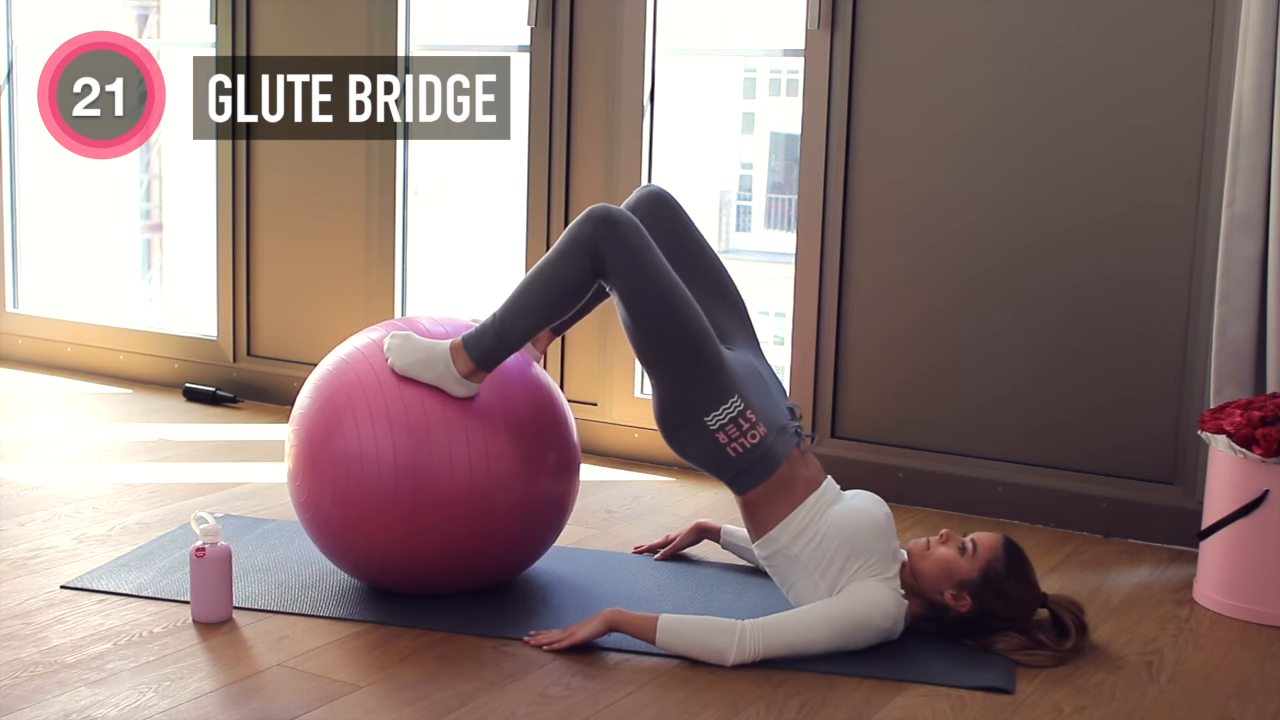yogaball: (279, 314, 591, 609)
